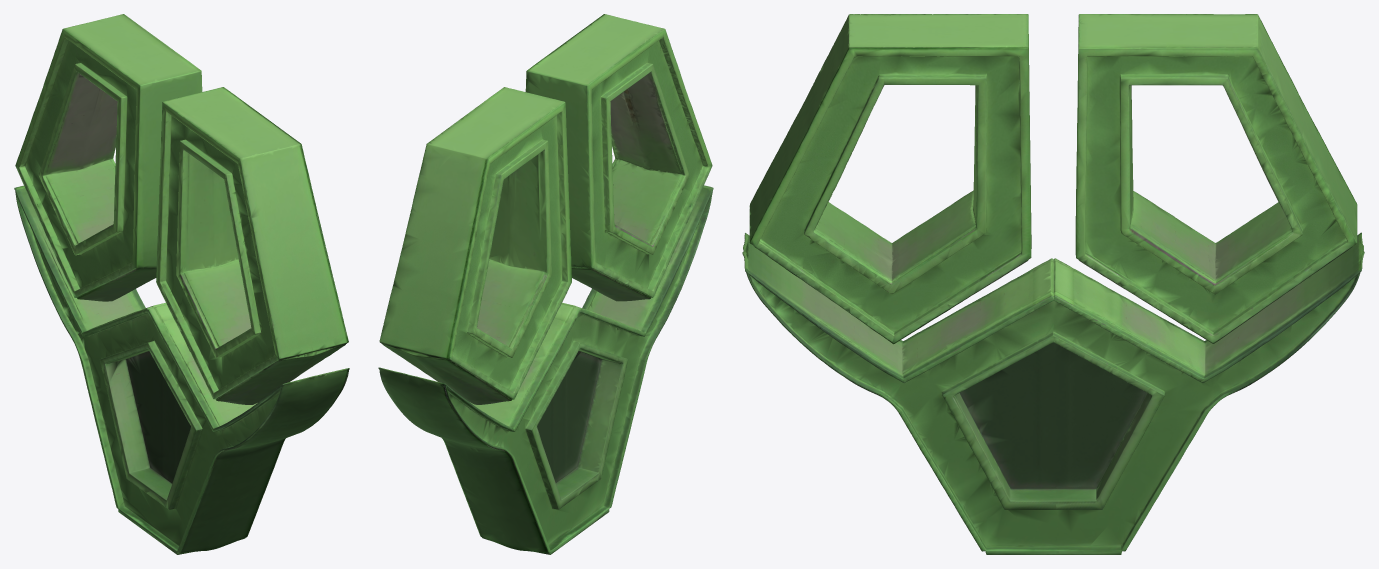
3 renders of one model, left to right at view 1: azimuth 30°, elevation 25°; view 2: azimuth 150°, elevation 25°; view 3: azimuth 270°, elevation 25°, orthographic. The views are drawn at different scales.
Parts seen in each view (by area): view 1: tripo_node_0b788bb6-94da-4fe1-a508-3ff75abe1187; view 2: tripo_node_0b788bb6-94da-4fe1-a508-3ff75abe1187; view 3: tripo_node_0b788bb6-94da-4fe1-a508-3ff75abe1187.
Part boxes in pixels (x1,y1,x2,y2): tripo_node_0b788bb6-94da-4fe1-a508-3ff75abe1187: (14, 14, 349, 554); tripo_node_0b788bb6-94da-4fe1-a508-3ff75abe1187: (378, 14, 713, 554); tripo_node_0b788bb6-94da-4fe1-a508-3ff75abe1187: (742, 14, 1364, 554).
Size of the model in its own units: 0.1629 by 0.8972 by 0.9998.
Materials: 1 (1 with a texture image).
